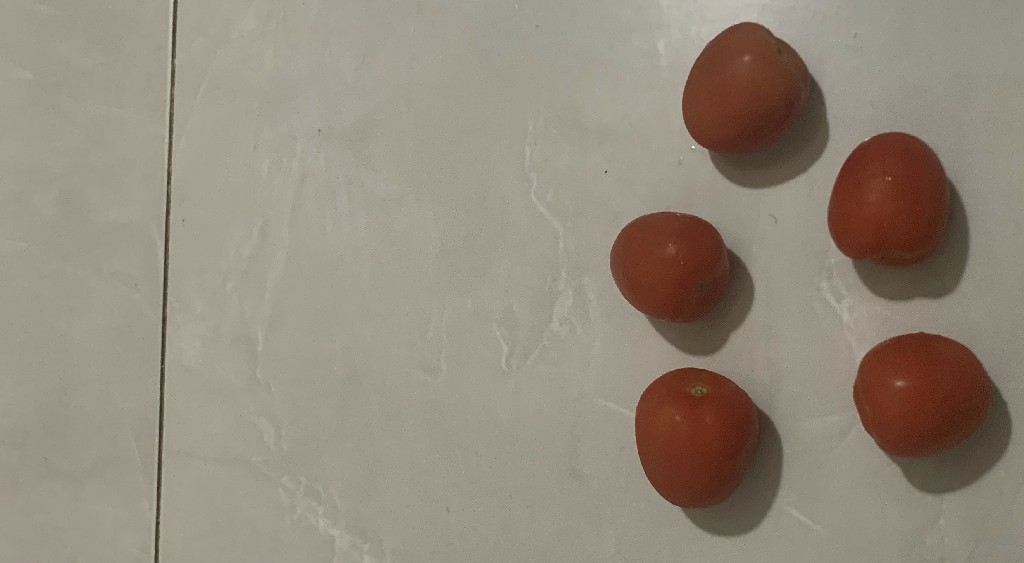OK: (627, 363, 761, 515), (849, 325, 995, 461), (672, 19, 816, 153), (825, 126, 953, 272), (607, 203, 734, 328)
